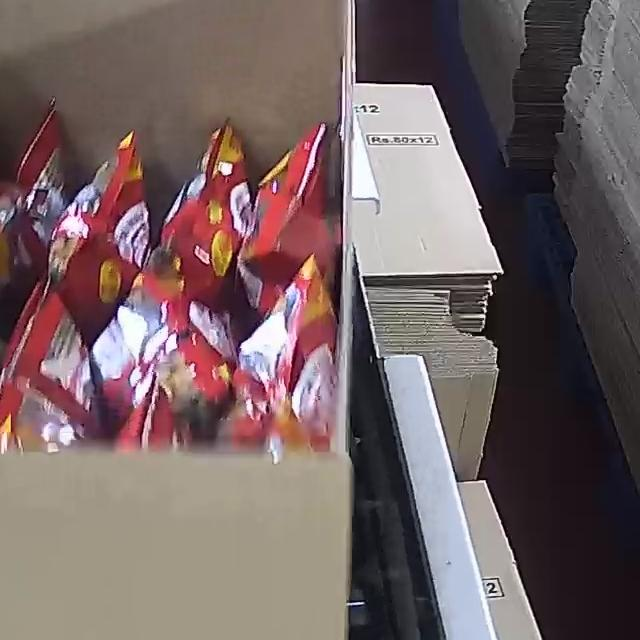masala: (0, 97, 341, 455)
